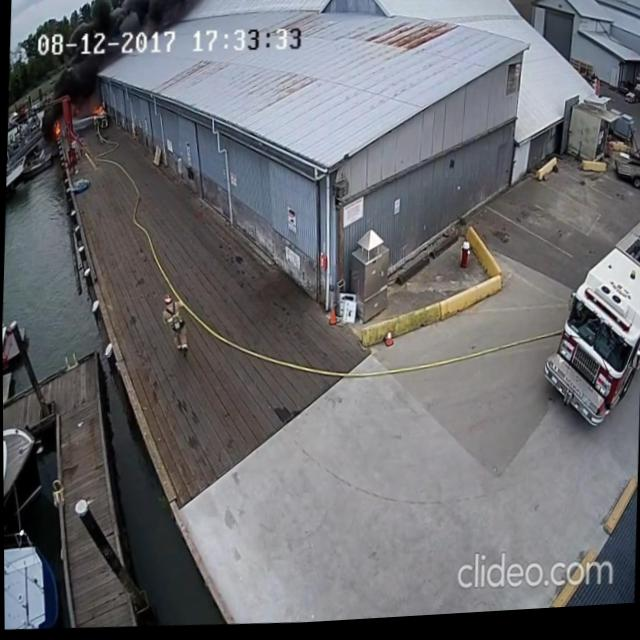fire: (90, 100, 106, 119), (51, 116, 62, 138)
